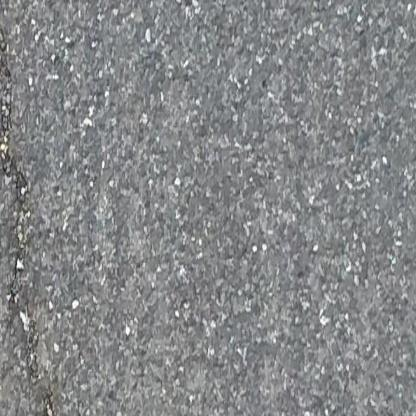Cracks: (0, 0, 45, 389), (45, 395, 65, 416)
